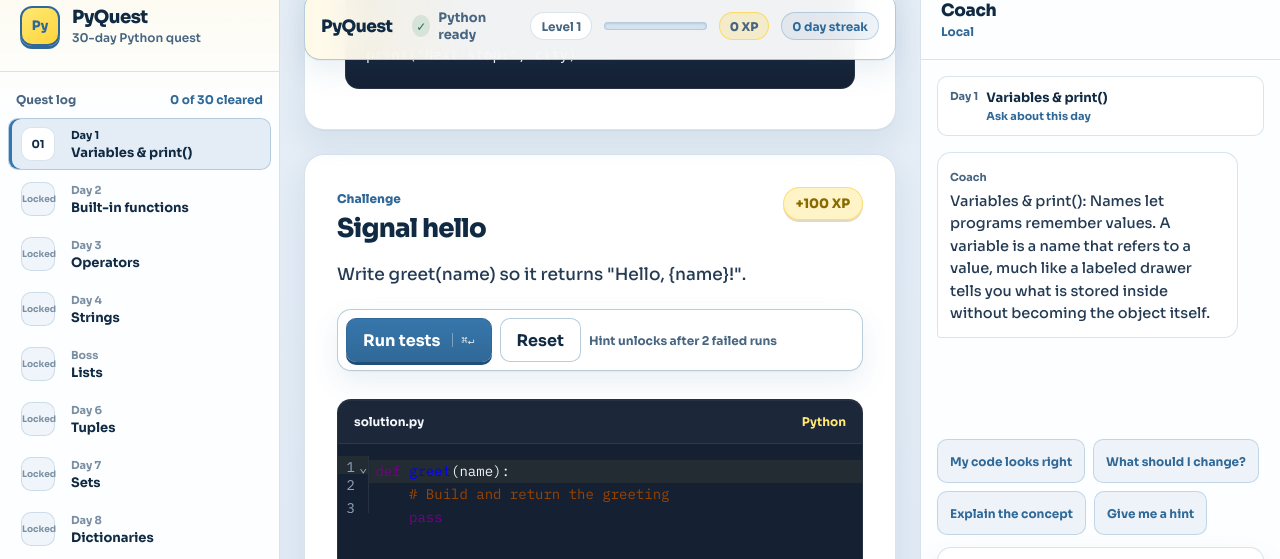
Test: PyQuest app › does not expose reference code through coaching
The image size is (1280, 559).
(page scrolled)
Click the button "Run tests ⌘↵": x=419, y=340 [346,318,492,362]
(page scrolled)
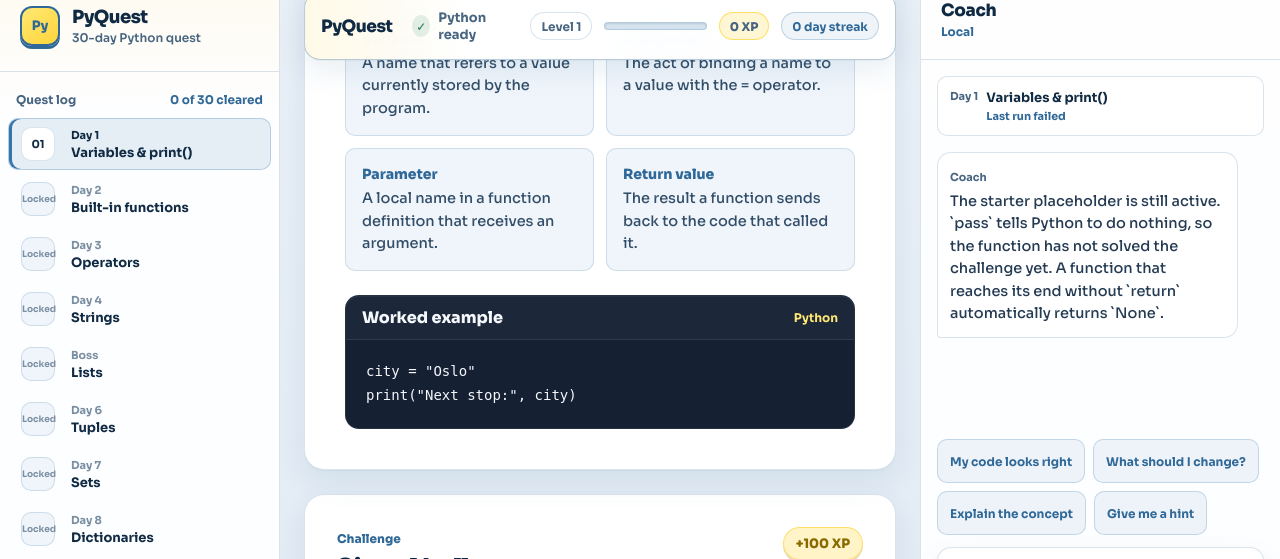
Check: the text "starter placeholder is still active" is shown, box [950,192,1220,322]
